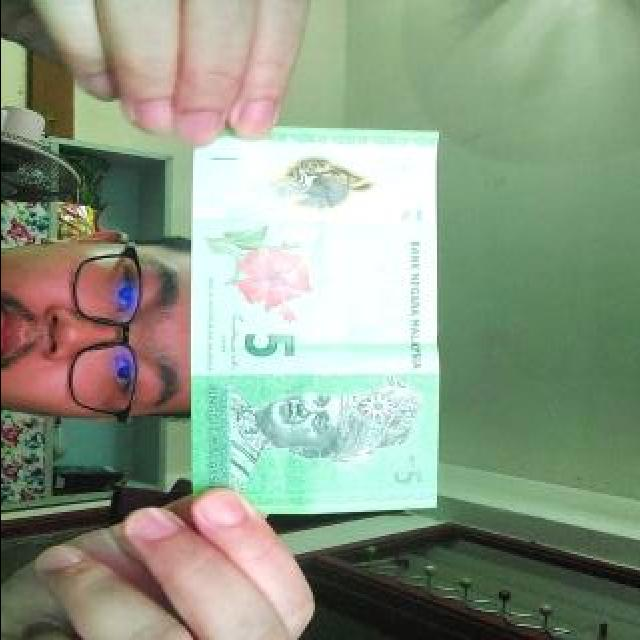5 Ringgit: (193, 118, 444, 499)
